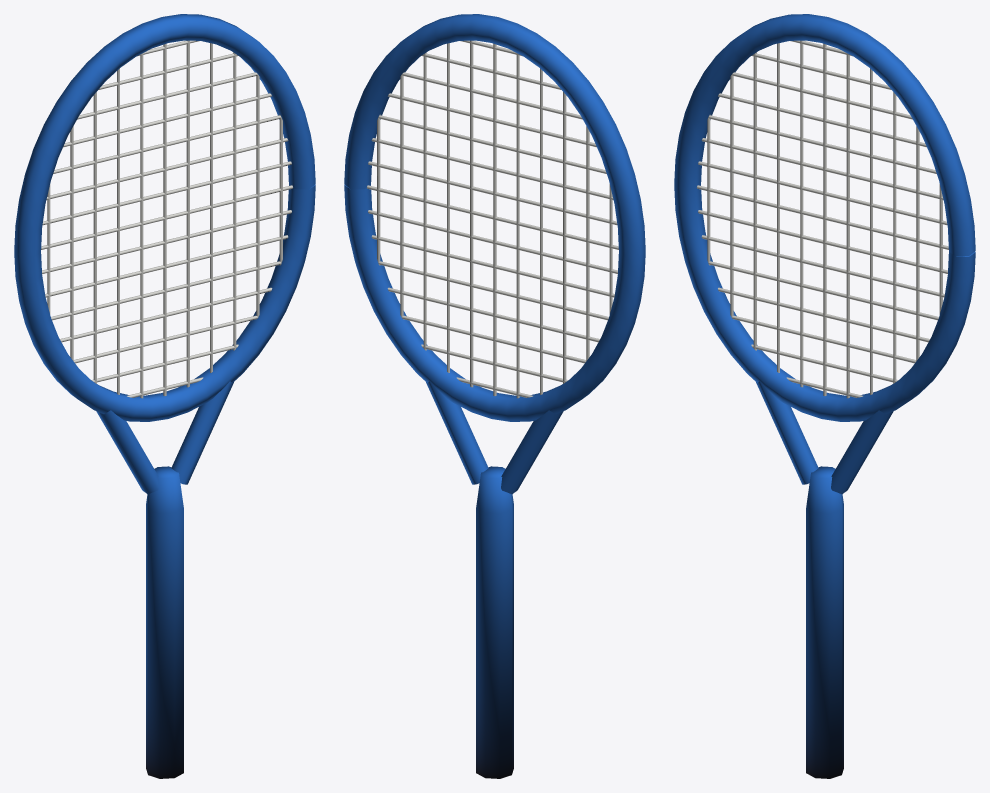
File: tennis_racket.glb
3 views of the same model, side by side, from view 1: azimuth 30°, elevation 25°; view 2: azimuth 150°, elevation 25°; view 3: azimuth 330°, elevation 25° (orthographic).
Parts seen in each view (by area): view 1: tennis_racket; view 2: tennis_racket; view 3: tennis_racket.
Part boxes in pixels (x1,y1,x2,y2): tennis_racket: [14, 14, 315, 778]; tennis_racket: [344, 14, 645, 778]; tennis_racket: [674, 14, 975, 778].
Size of the model in its own units: 0.279 by 0.6795 by 0.032.
